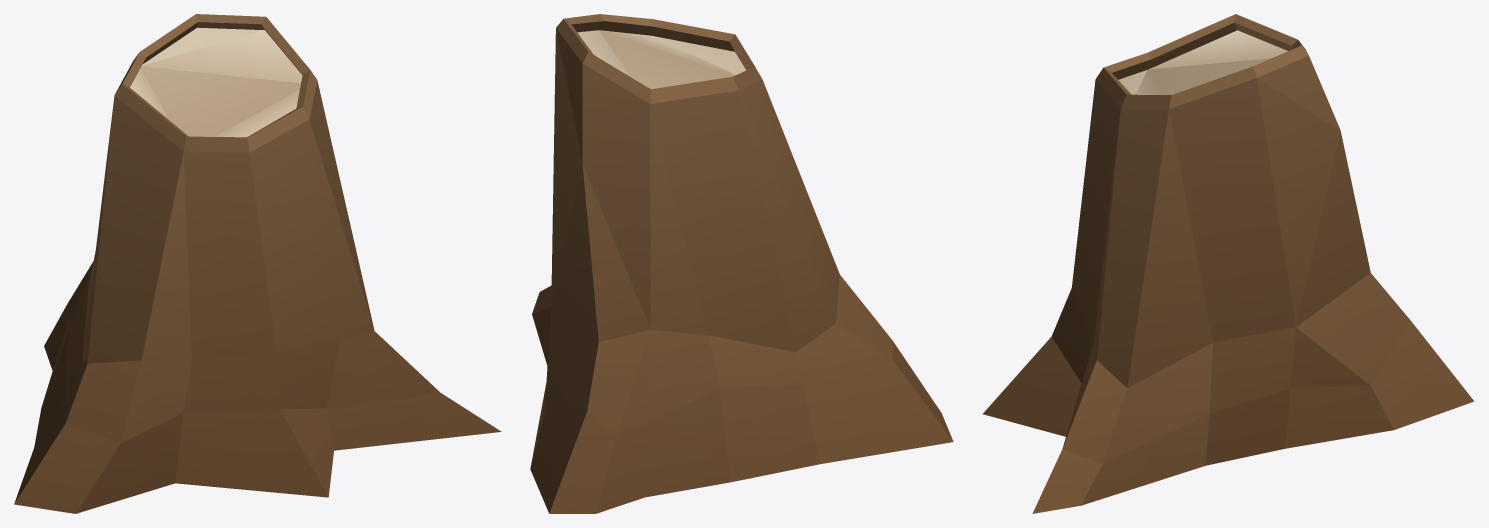
The model's file is Stump_Mammoth_01.fbx.
3 renders of one model, left to right at view 1: azimuth 30°, elevation 25°; view 2: azimuth 150°, elevation 25°; view 3: azimuth 270°, elevation 25°, orthographic. The views are drawn at different scales.
Parts seen in each view (by area): view 1: Stump_Mammoth; view 2: Stump_Mammoth; view 3: Stump_Mammoth.
Part boxes in pixels (x1,y1,x2,y2): Stump_Mammoth: [14, 14, 501, 513]; Stump_Mammoth: [530, 14, 953, 513]; Stump_Mammoth: [982, 14, 1474, 513].
Bounding box in the file's own units: 3 × 2.4 × 2.8.
